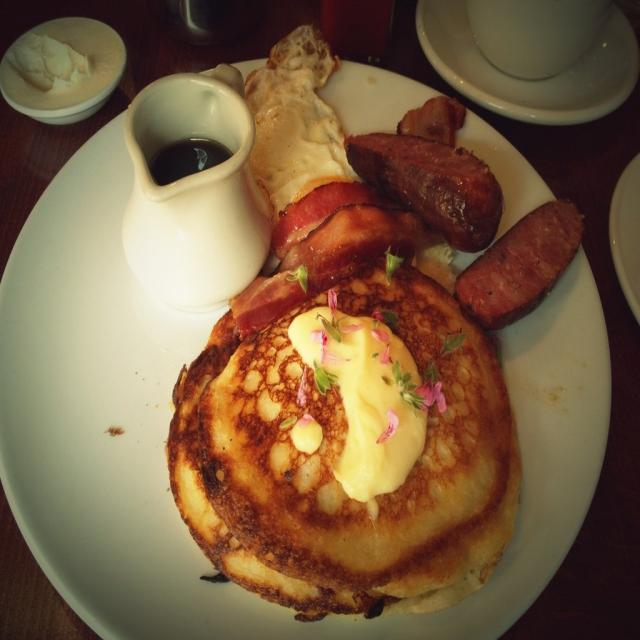Pancake: (168, 275, 516, 637)
